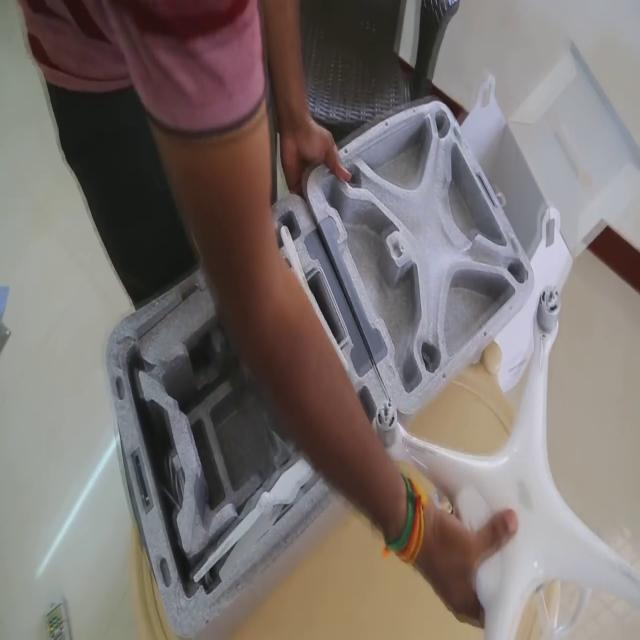drone: (356, 286, 640, 638)
